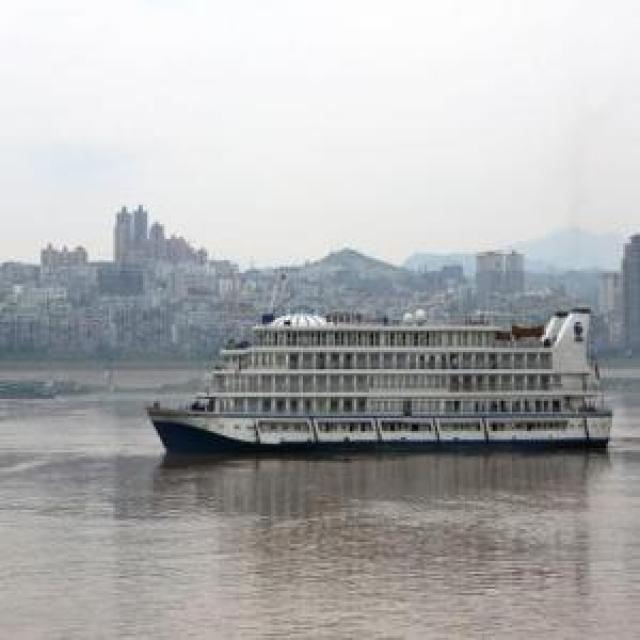passenger ship: (143, 297, 604, 454)
